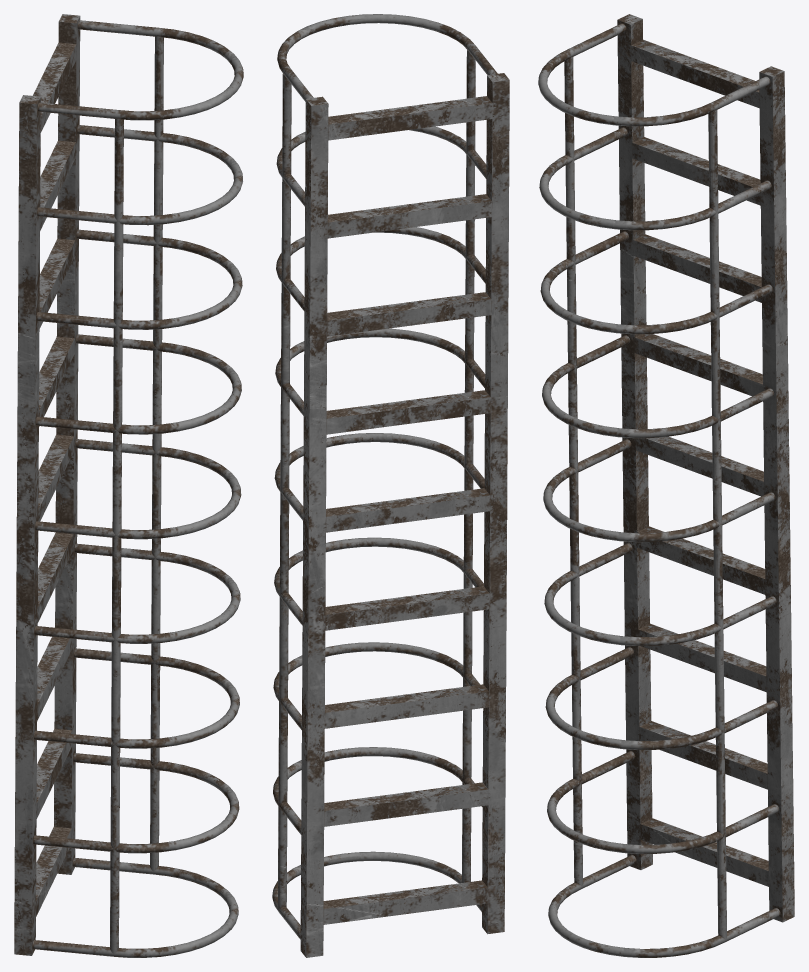
Rendered from Iron stairs 2.fbx.
3 views of the same model, side by side, from view 1: azimuth 30°, elevation 25°; view 2: azimuth 150°, elevation 25°; view 3: azimuth 270°, elevation 25° (orthographic).
Parts seen in each view (by area): view 1: Cylinder.008, Cube.372, Cylinder.007, Cube.371, Cube.373; view 2: Cube.371, Cube.373, Cube.372, Cylinder.008, Cylinder.007; view 3: Cylinder.008, Cube.371, Cube.373, Cube.372, Cylinder.007.
Part boxes in pixels (x1,y1,x2,y2): Cylinder.008: (32, 20, 243, 957); Cube.372: (14, 95, 40, 955); Cylinder.007: (110, 36, 163, 953); Cube.371: (32, 42, 76, 916); Cube.373: (54, 14, 80, 874); Cube.371: (323, 96, 492, 924); Cube.373: (300, 96, 328, 957); Cube.372: (482, 73, 509, 934); Cylinder.008: (272, 14, 497, 939); Cylinder.007: (277, 50, 475, 909); Cylinder.008: (538, 23, 780, 957); Cube.371: (631, 39, 768, 886); Cube.373: (759, 66, 794, 922); Cube.372: (617, 14, 652, 869); Cylinder.007: (564, 56, 726, 939).
Bounding box in the file's own units: 71.43 × 271 × 74.47.
